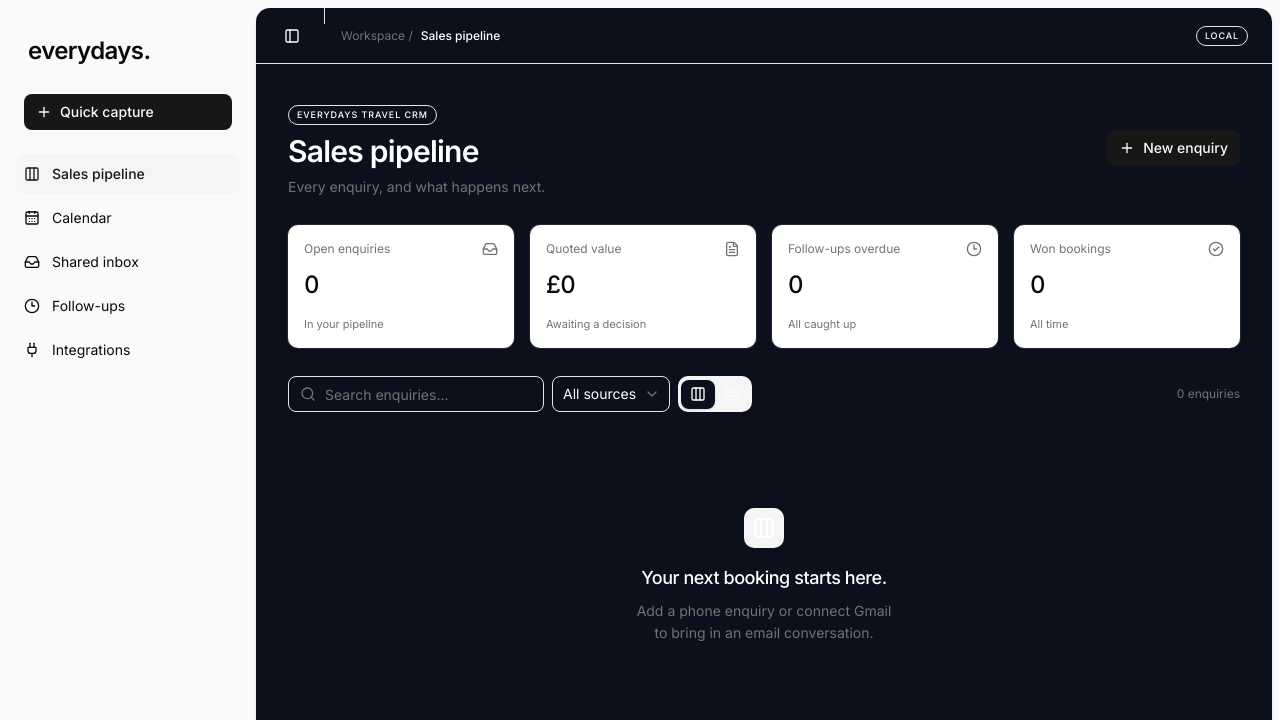
it: shows integration setup instead of fabricated inbox messages
Expected: the text "Your next booking starts here." is shown, [641, 564, 887, 592]
What coordinates should you click on to do the following:
click the button "Shared inbox"
I would click on:
 (128, 262)
Its box is [16, 242, 240, 282].
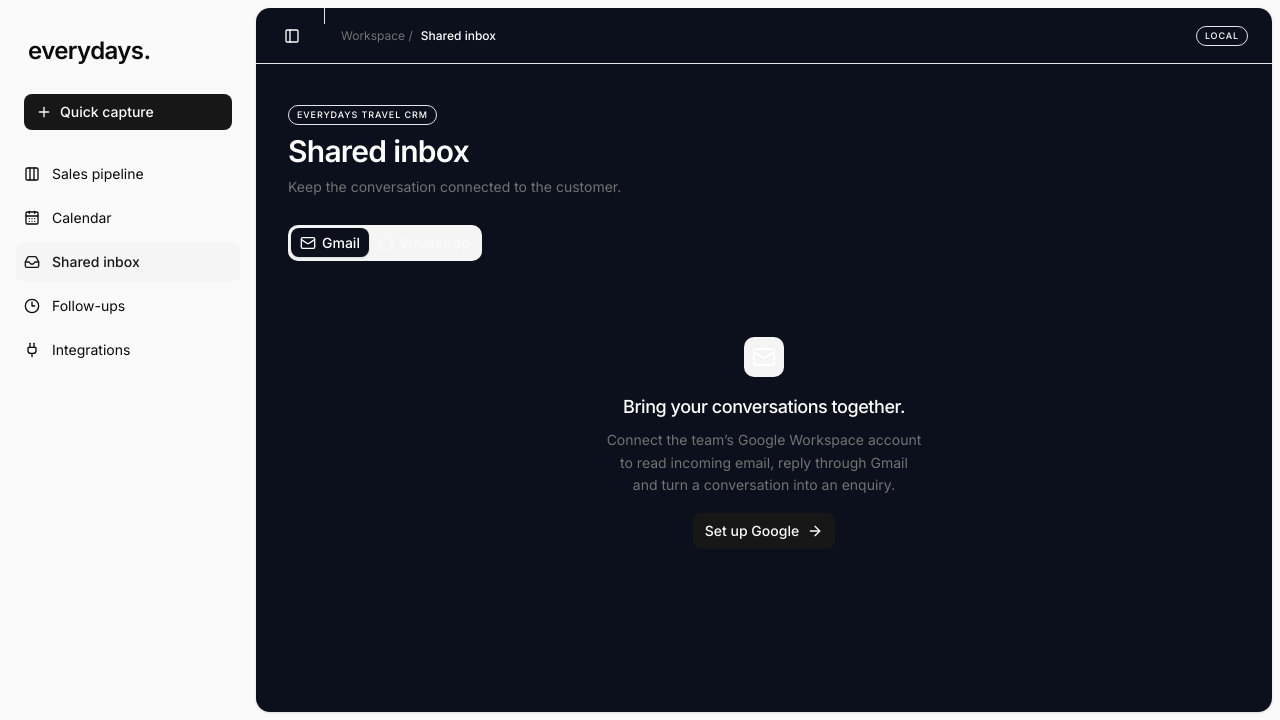
Now the text "Bring your conversations together." is shown, box [623, 393, 905, 421]
Now the button "Set up Google" is shown, box [693, 513, 835, 549]
